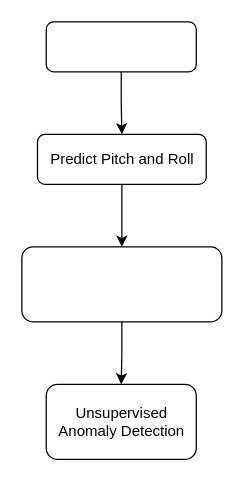
Some shapes in this 244 by 481 pixel diagram are drawn without their labels. Each missing label, with the centre of its shape:
"Error Function Return MSE, maximum distance, lag" goes at (121,284).
"Model" goes at (120,46).
